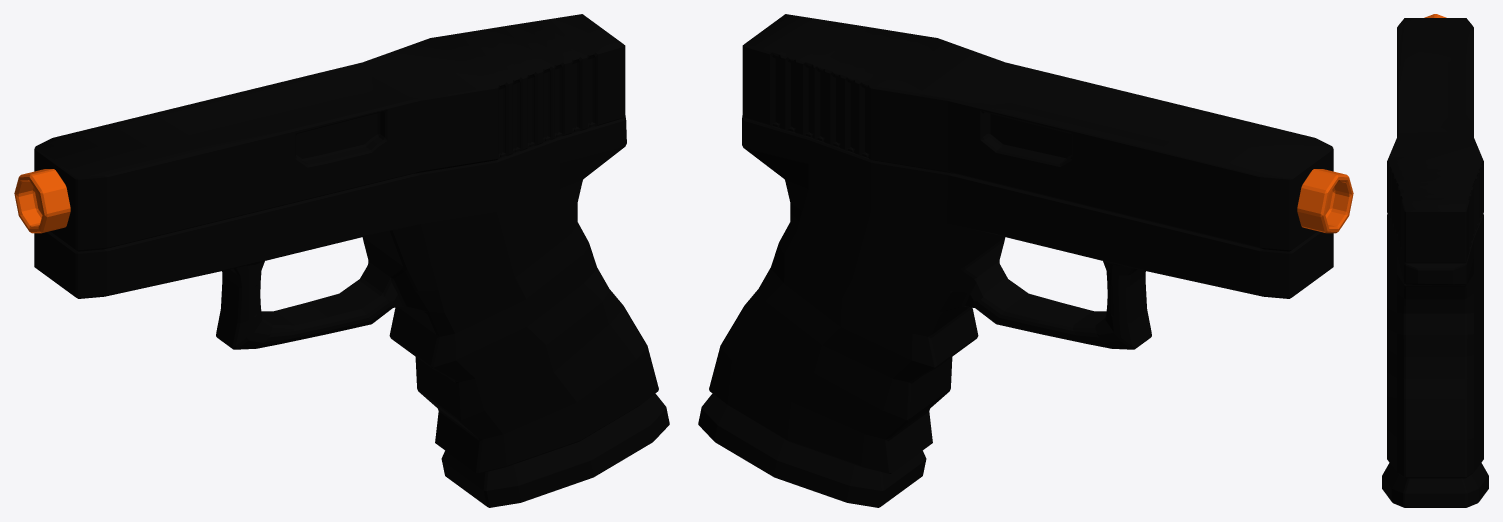
The model's file is weapon.fbx.
The picture shows the model from 3 angles, left to right: view 1: azimuth 30°, elevation 25°; view 2: azimuth 150°, elevation 25°; view 3: azimuth 270°, elevation 25°; orthographic projection. The views are drawn at different scales.
Visible parts, largest first — view 1: top; view 2: top; view 3: top.
Part boxes in pixels (x1,y1,x2,y2): top: (14,14,669,507); top: (698,14,1353,507); top: (1382,14,1488,507).
Size of the model in its own units: 405 by 270 by 83.74.
